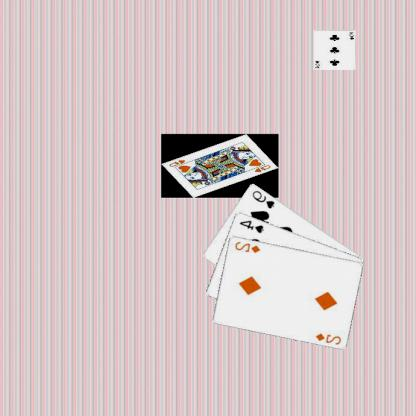2D: (314, 330, 344, 346), (234, 239, 263, 254)
4S: (238, 217, 267, 234)
9S: (252, 187, 278, 210)
